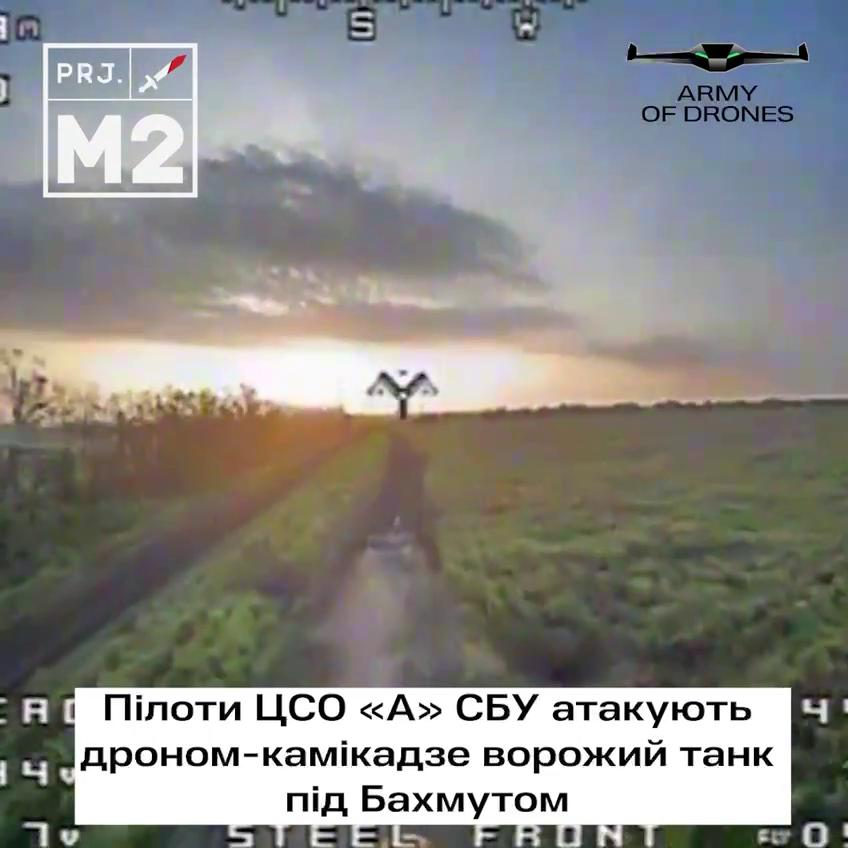tank: (352, 512, 432, 627)
